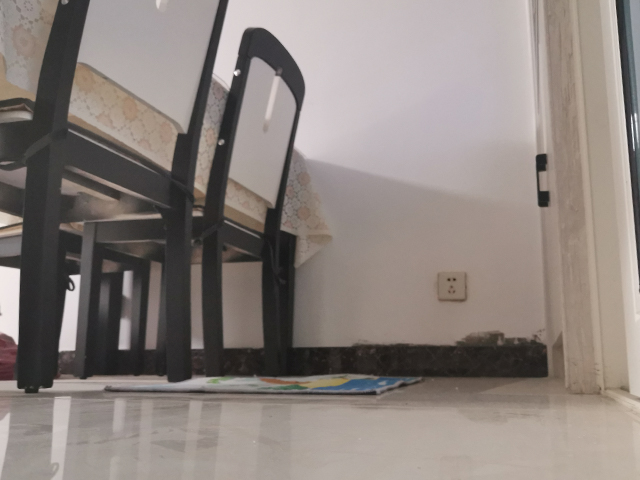cabinet: (524, 1, 625, 397)
carpet: (102, 375, 425, 397)
stool: (1, 1, 307, 394)
table: (1, 1, 229, 393), (74, 25, 305, 380)
